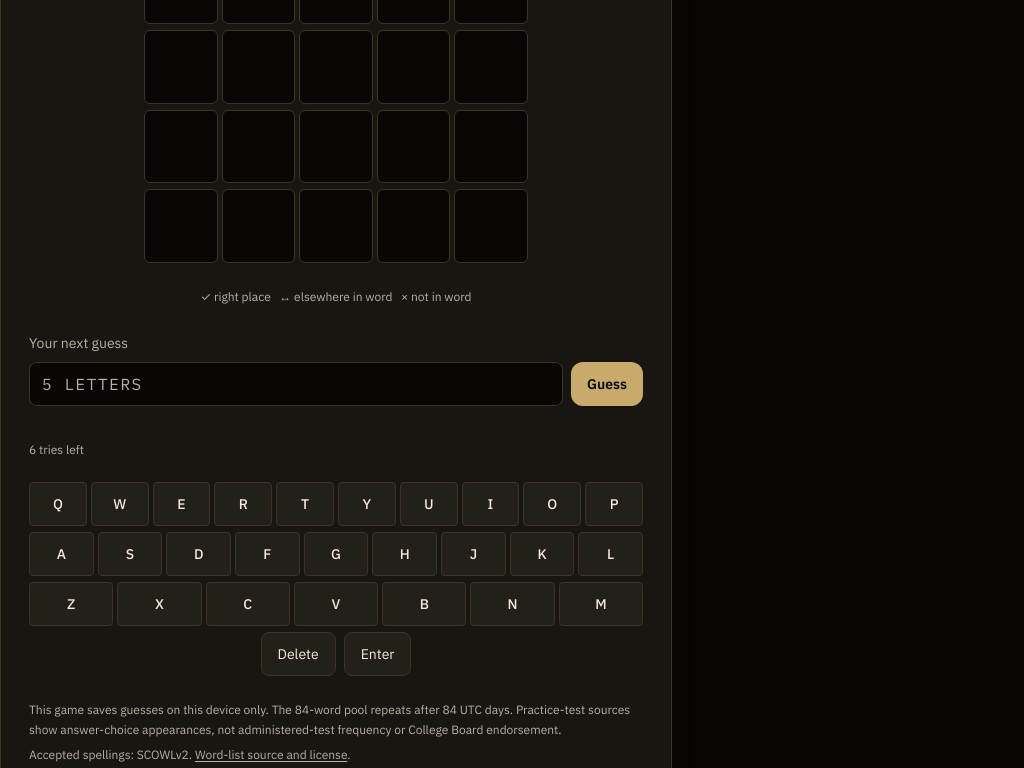
DailyWordLab › accepts a mobile text-input guess and reveals meaning after a win
(page scrolled)
Check: the text "Clear and easy to understand." is not shown
Type "lucid" into the field labelled "Your next guess" at {"x": 296, "y": 384}, box [29, 362, 563, 406]
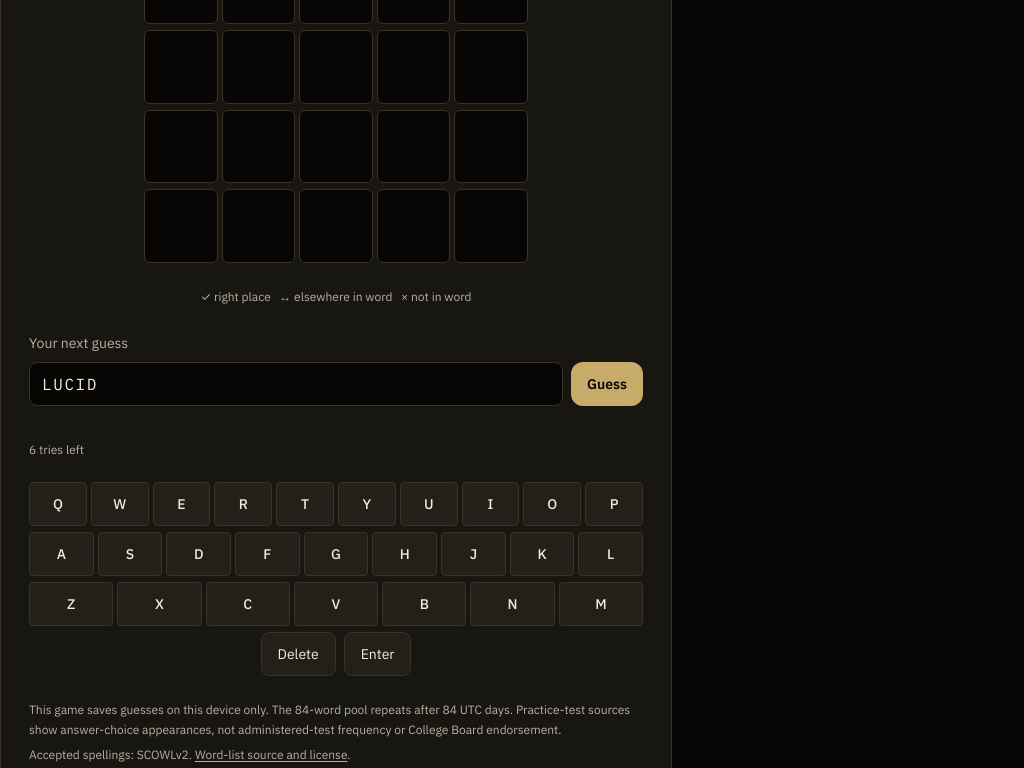
Click the button "Guess" at {"x": 607, "y": 384}, box [571, 362, 643, 406]
(page scrolled)
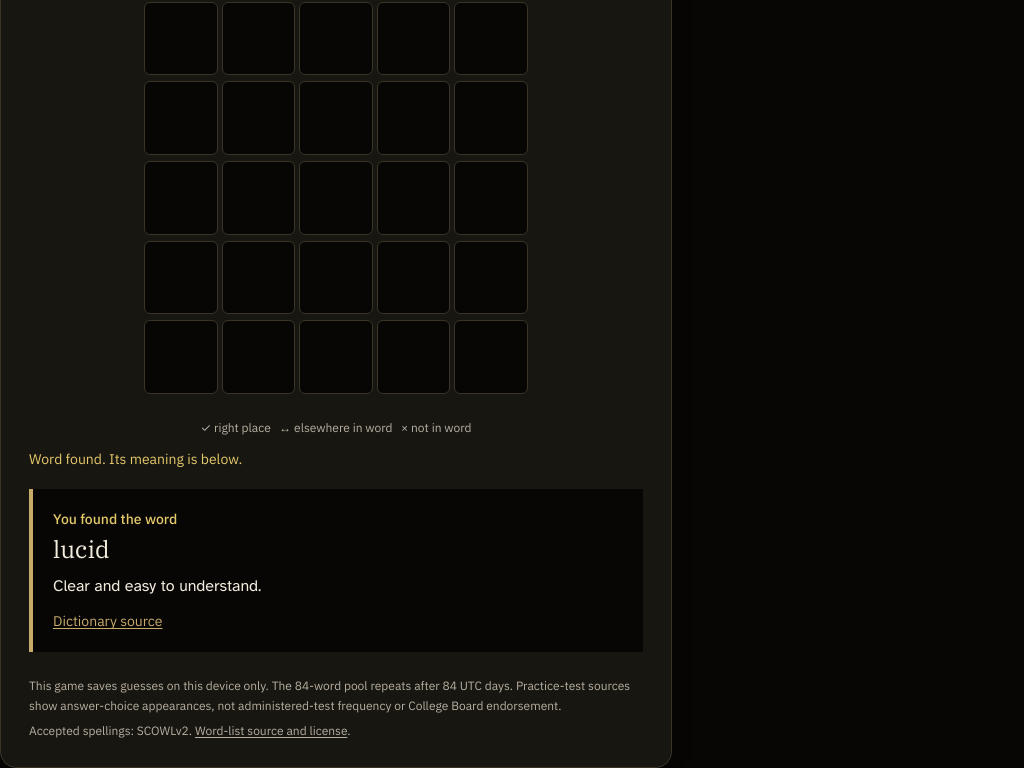
Check: the text "You found the word" is shown, box [53, 510, 177, 528]
Check: the text "Clear and easy to understand." is shown, box [53, 576, 261, 596]
